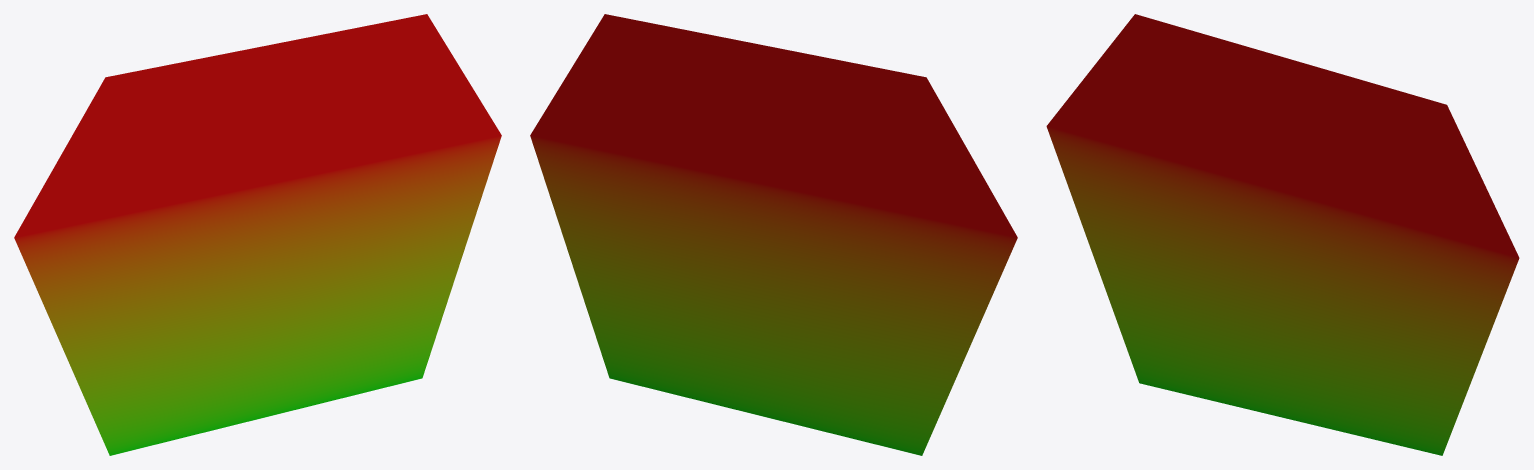
File: Lily Of The Valley_LOD7_Var4_xikkdhjja.fbx
3 views of the same model, side by side, from view 1: azimuth 30°, elevation 25°; view 2: azimuth 150°, elevation 25°; view 3: azimuth 330°, elevation 25° (orthographic). The views are drawn at different scales.
Visible parts, largest first — view 1: _w36w_Var4_LOD7; view 2: _w36w_Var4_LOD7; view 3: _w36w_Var4_LOD7.
Boxes of the visible parts, bbox=[...] form: _w36w_Var4_LOD7: bbox=[14, 14, 501, 455]; _w36w_Var4_LOD7: bbox=[530, 14, 1017, 455]; _w36w_Var4_LOD7: bbox=[1046, 14, 1519, 455].
Size of the model in its own units: 56.22 by 41.82 by 3.64e-12.
